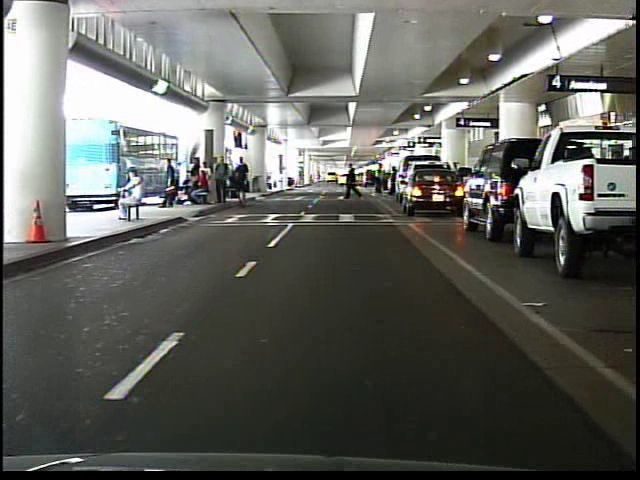person: (106, 166, 149, 226), (157, 156, 180, 211), (344, 161, 364, 205), (373, 160, 389, 197)
